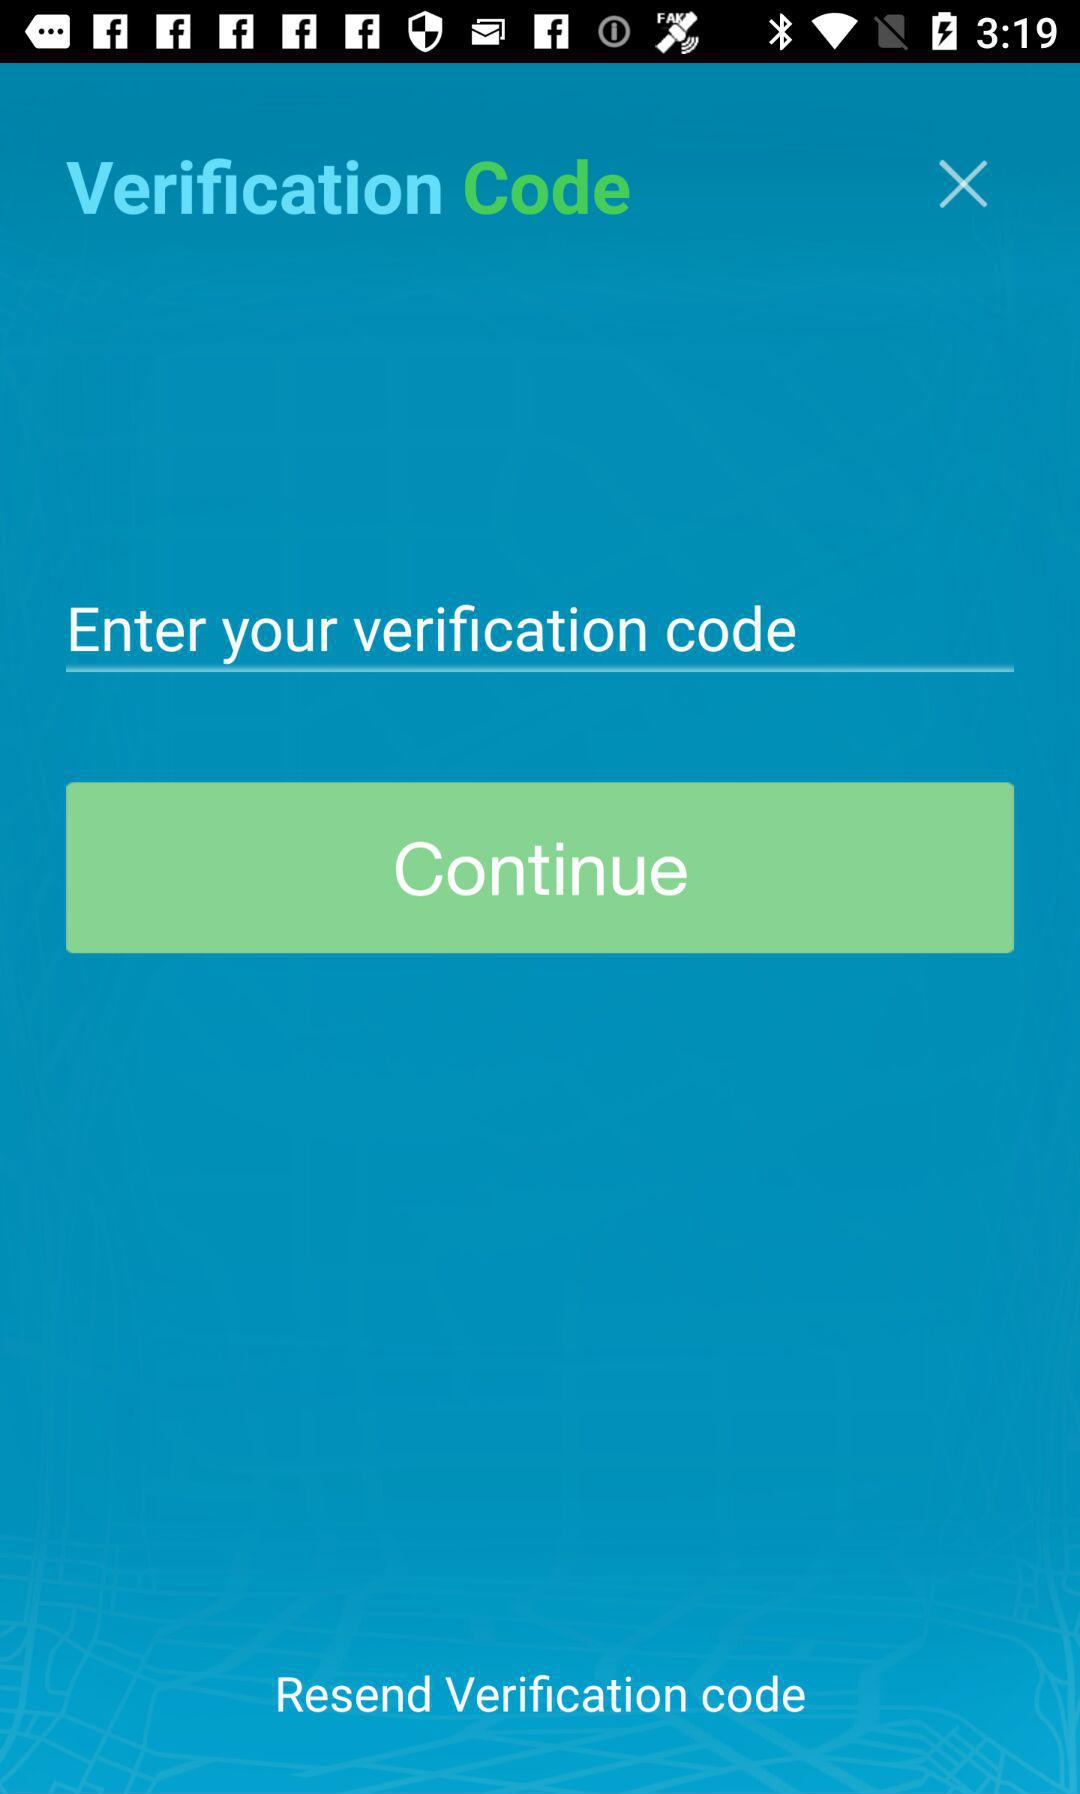EditText: (67, 604, 1016, 674)
Icon: (935, 158, 992, 211)
Text: (70, 604, 796, 666), (64, 154, 633, 219), (270, 1670, 810, 1722)
TextButton: (67, 782, 1013, 953)
UpperTaskBar: (1, 1, 1080, 64)
